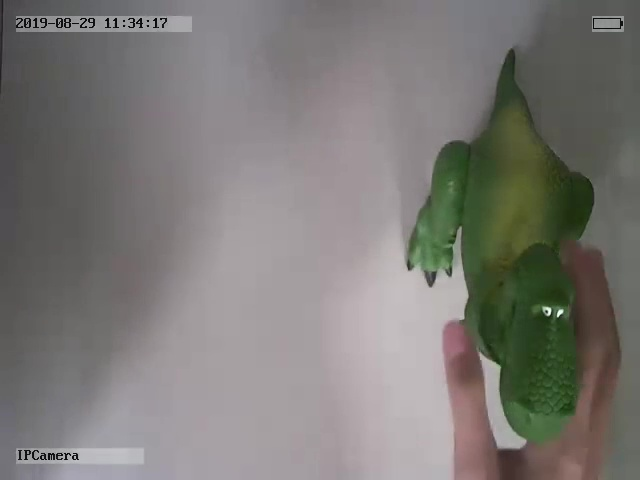rex: (405, 47, 594, 441)
